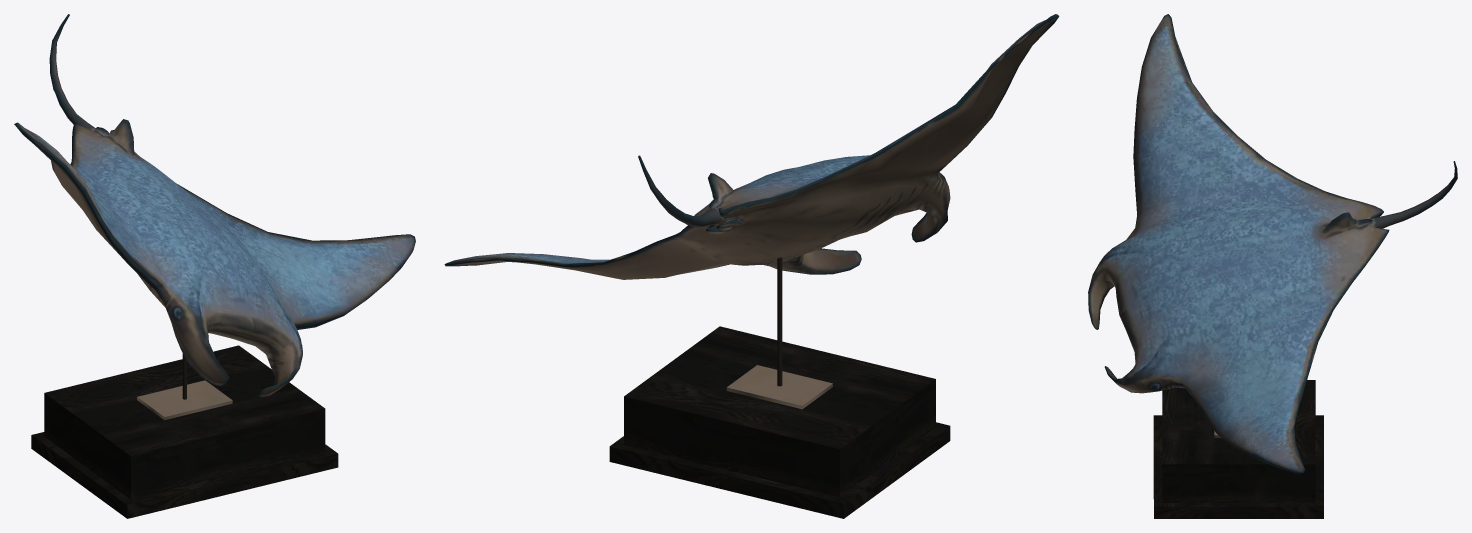
The model's file is bronze_ray_statue.d3d1afff.glb.
The picture shows the model from 3 angles, left to right: view 1: azimuth 30°, elevation 25°; view 2: azimuth 150°, elevation 25°; view 3: azimuth 270°, elevation 25°; orthographic projection. The views are drawn at different scales.
Parts seen in each view (by area): view 1: bronze_ray_statue; view 2: bronze_ray_statue; view 3: bronze_ray_statue.
Part boxes in pixels (<box>): bronze_ray_statue: <box>14,14,415,518</box>; bronze_ray_statue: <box>444,14,1059,518</box>; bronze_ray_statue: <box>1088,14,1457,518</box>.
Bounding box in the file's own units: 0.95 × 0.7918 × 0.7191.
1 material, 1 textured.
